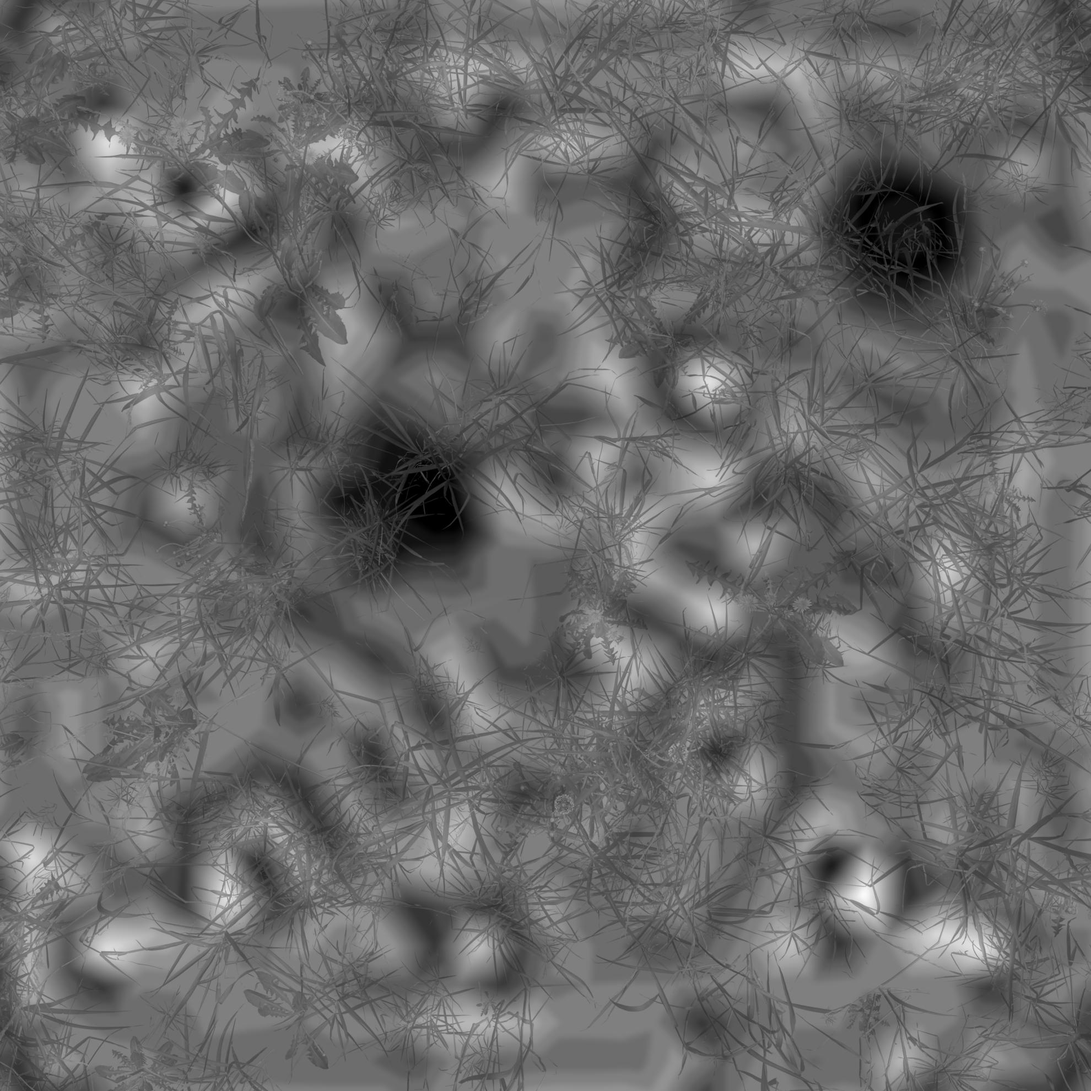landmine: (330, 434, 472, 576), (833, 164, 969, 299)
